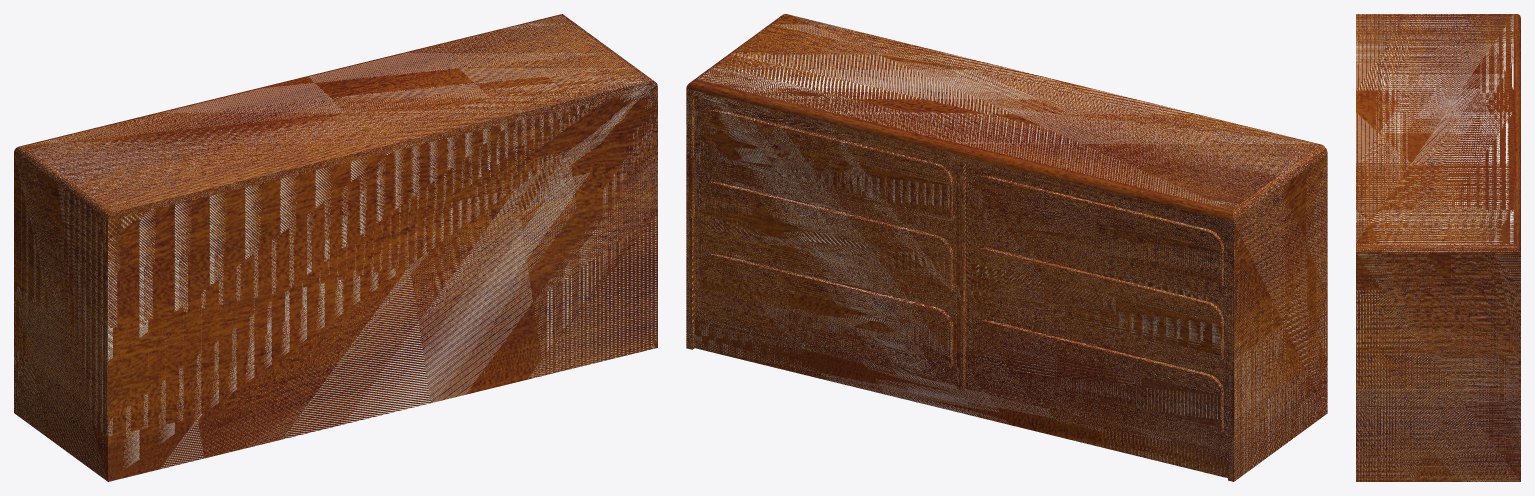
The picture shows the model from 3 angles, left to right: view 1: azimuth 30°, elevation 25°; view 2: azimuth 150°, elevation 25°; view 3: azimuth 270°, elevation 25°; orthographic projection. The views are drawn at different scales.
Parts seen in each view (by area): view 1: mesh1_mesh1-geometry; view 2: mesh1_mesh1-geometry; view 3: mesh1_mesh1-geometry.
Boxes of the visible parts, x1,y1,x2,y2 form: mesh1_mesh1-geometry: (14,14,657,481); mesh1_mesh1-geometry: (686,14,1327,481); mesh1_mesh1-geometry: (1356,14,1520,481).
Bounding box in the file's own units: 0.8752 × 0.4084 × 0.2593.
